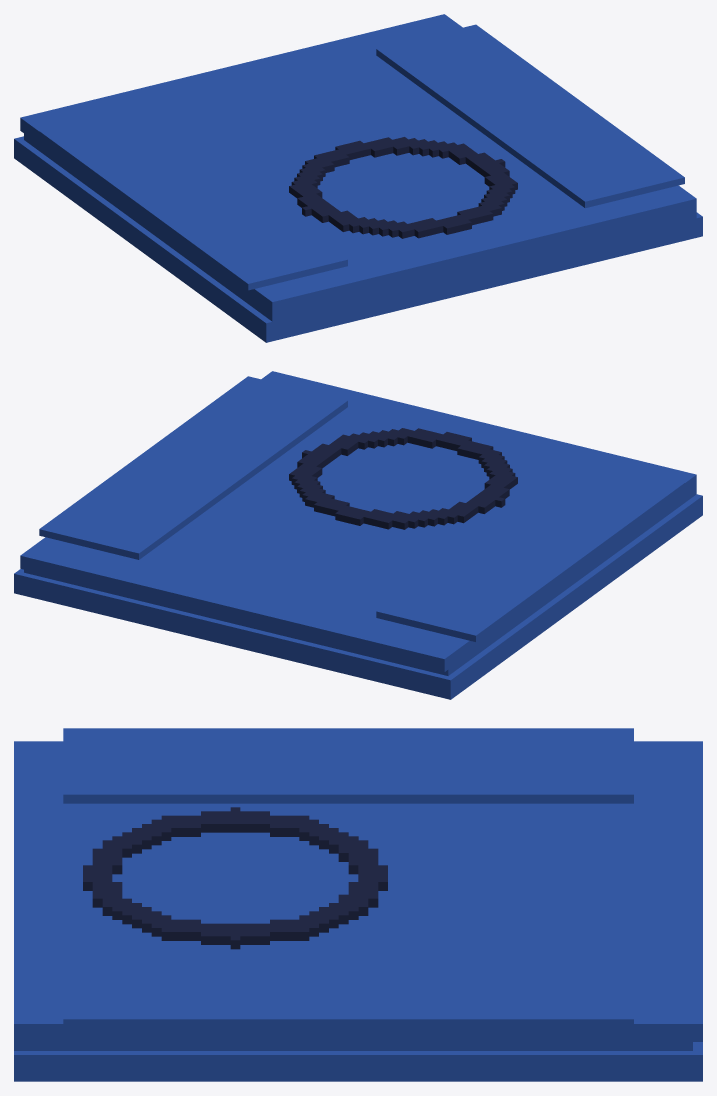
Rendered from tshirt.glb.
3 views of the same model, one above another, from view 1: azimuth 30°, elevation 25°; view 2: azimuth 150°, elevation 25°; view 3: azimuth 270°, elevation 25° (orthographic). The views are drawn at different scales.
Parts seen in each view (by area): view 1: tshirt:compound; view 2: tshirt:compound; view 3: tshirt:compound.
Boxes of the visible parts, x1=… form: tshirt:compound: x1=14, y1=14, x2=702, y2=342; tshirt:compound: x1=14, y1=371, x2=702, y2=699; tshirt:compound: x1=14, y1=728, x2=702, y2=1081.
Bounding box in the file's own units: 0.28 × 0.028 × 0.28.
